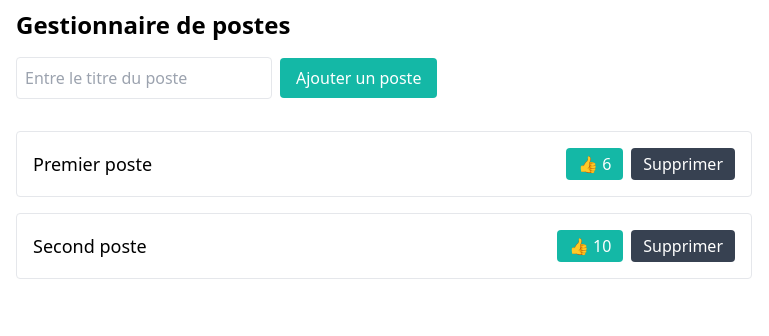
App component › should show error mesage when updating a post fails
Click the button "👍 6" at {"x": 595, "y": 164}, box x1=566 y1=148 x2=623 y2=180
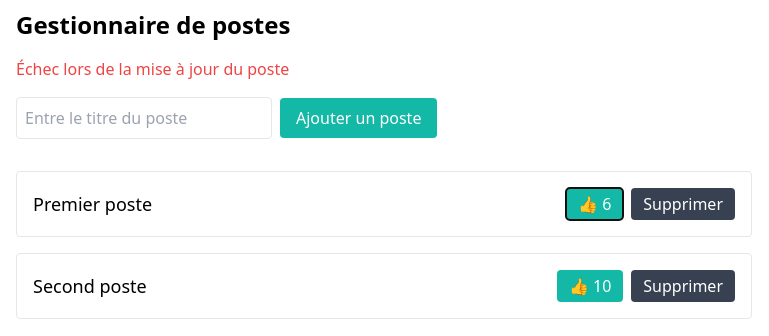
expect the text "Échec lors de la mise à jour du poste" is shown: met, box x1=16 y1=58 x2=289 y2=80
